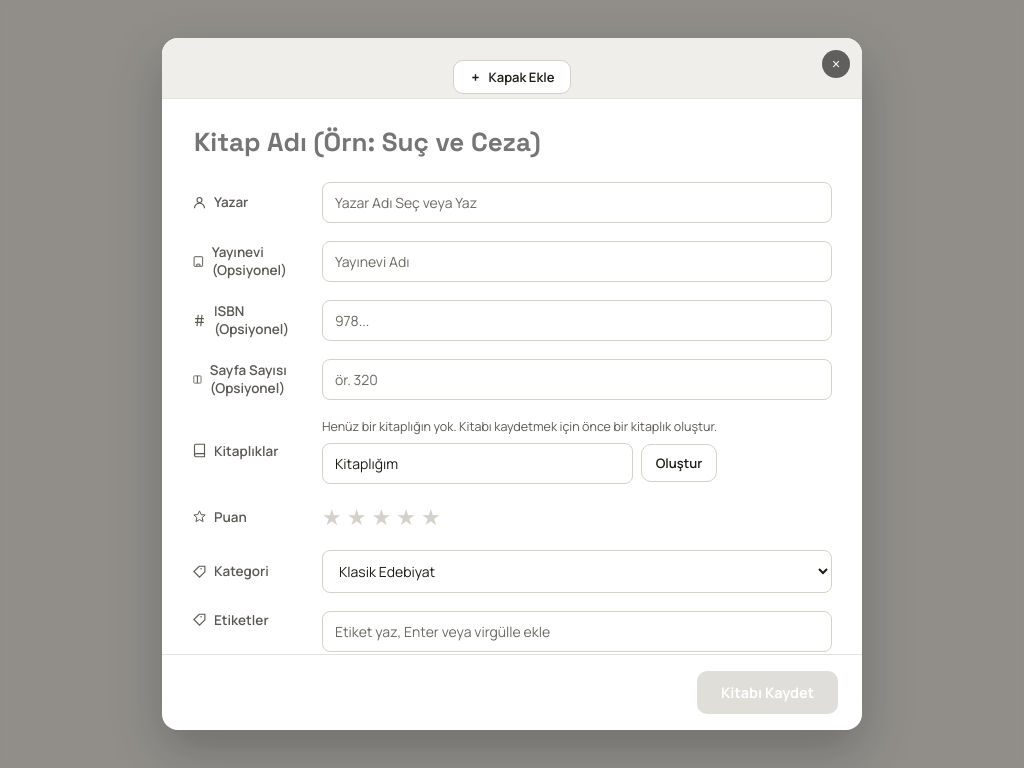
Test: BookModal without any library › uses the edited name when the user changes it
Replace the text in the field named "Yeni kitaplığın adı" with "  Yazlık " at (477, 463), box [322,443,633,484]
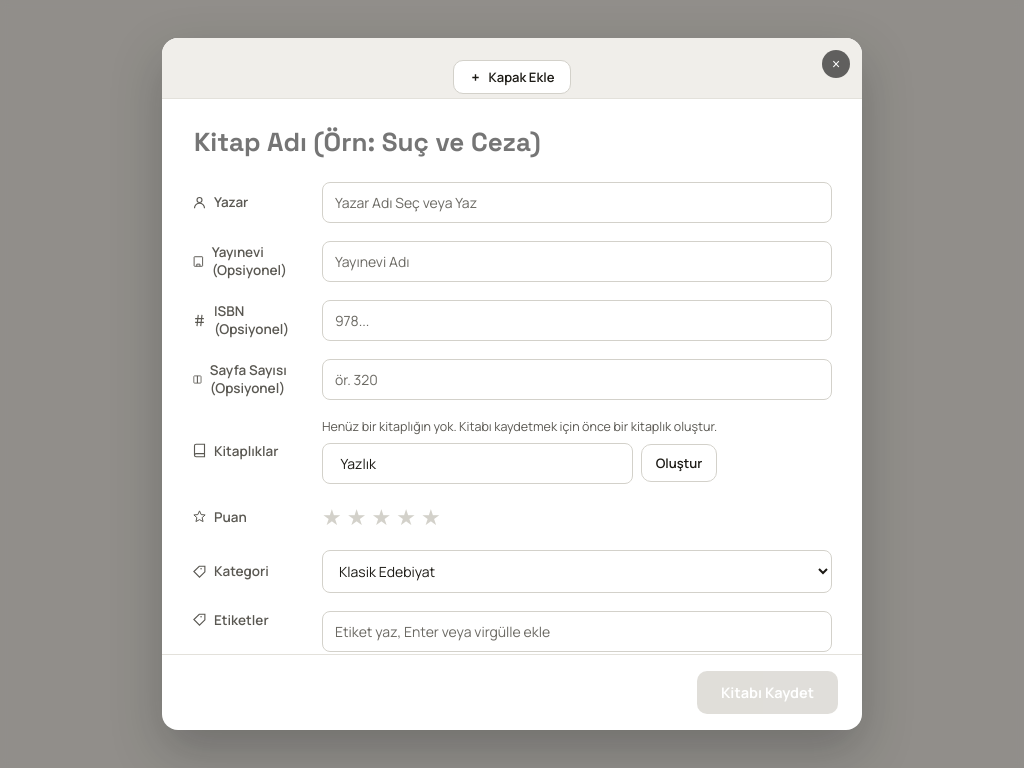
Click the button "Oluştur" at (679, 463), box [641,444,717,482]
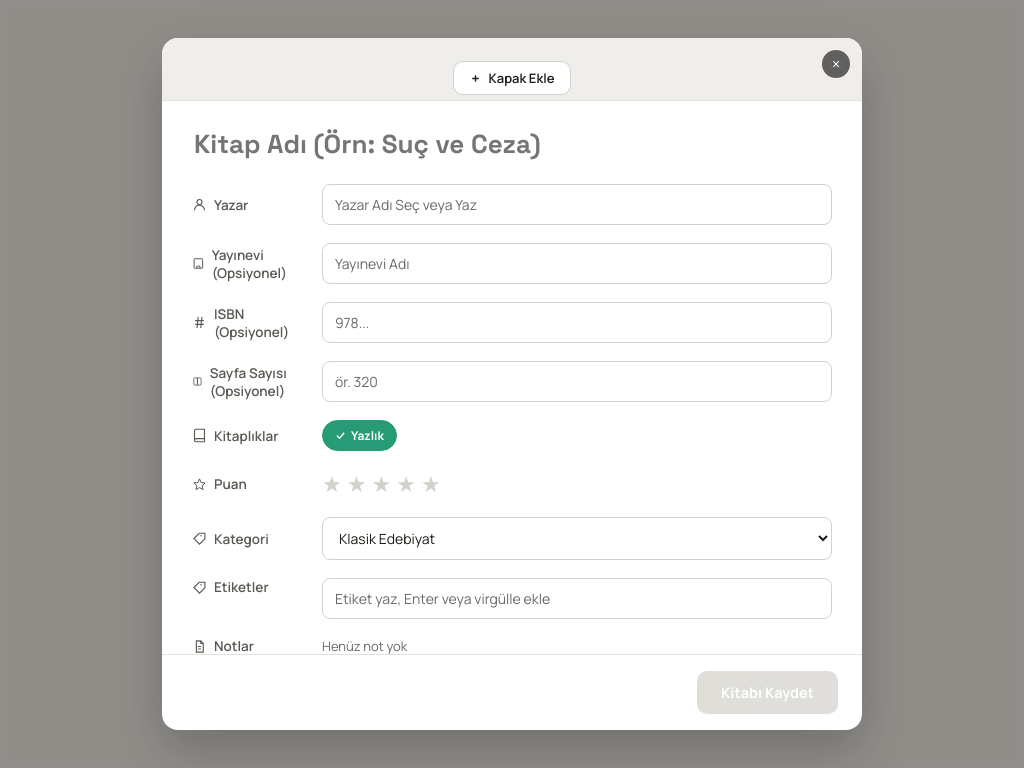
Expected: the button "Yazlık" is shown, [322,420,397,451]
